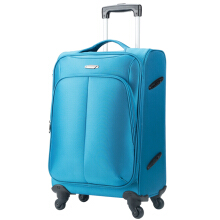luggage: (47, 3, 169, 218)
